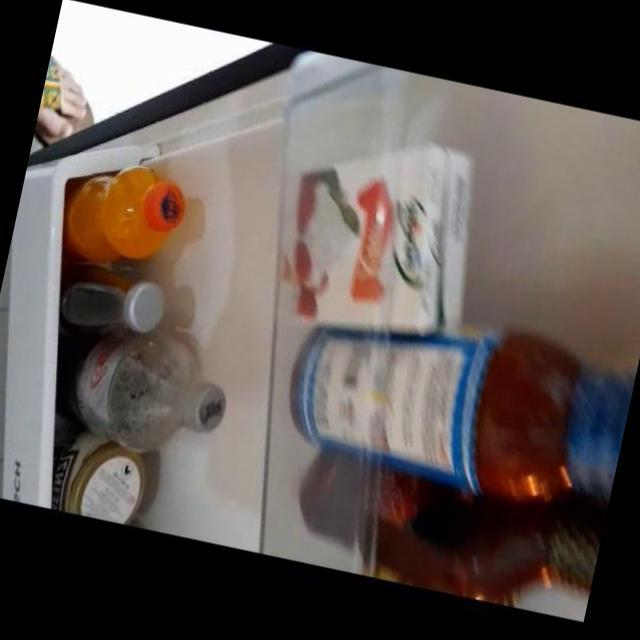cream cheese: (279, 130, 496, 347)
sauce: (271, 314, 635, 615)
